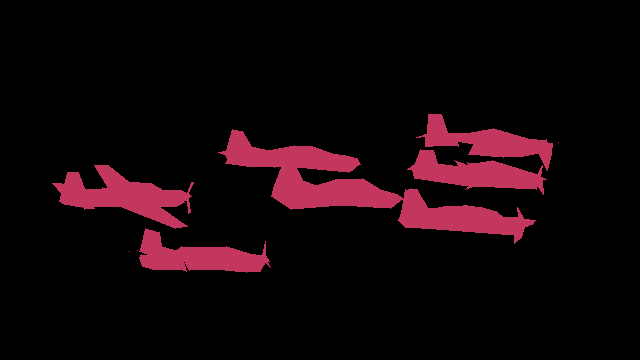Airplane: (52, 165, 193, 228), (416, 114, 559, 170), (398, 188, 536, 243), (407, 149, 547, 194), (129, 228, 270, 272), (218, 129, 361, 172), (271, 165, 403, 210), (139, 254, 186, 272)
